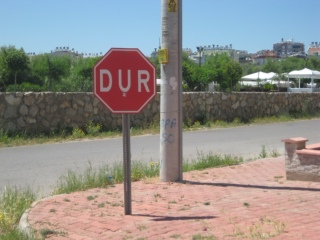dur: (92, 48, 156, 113)
